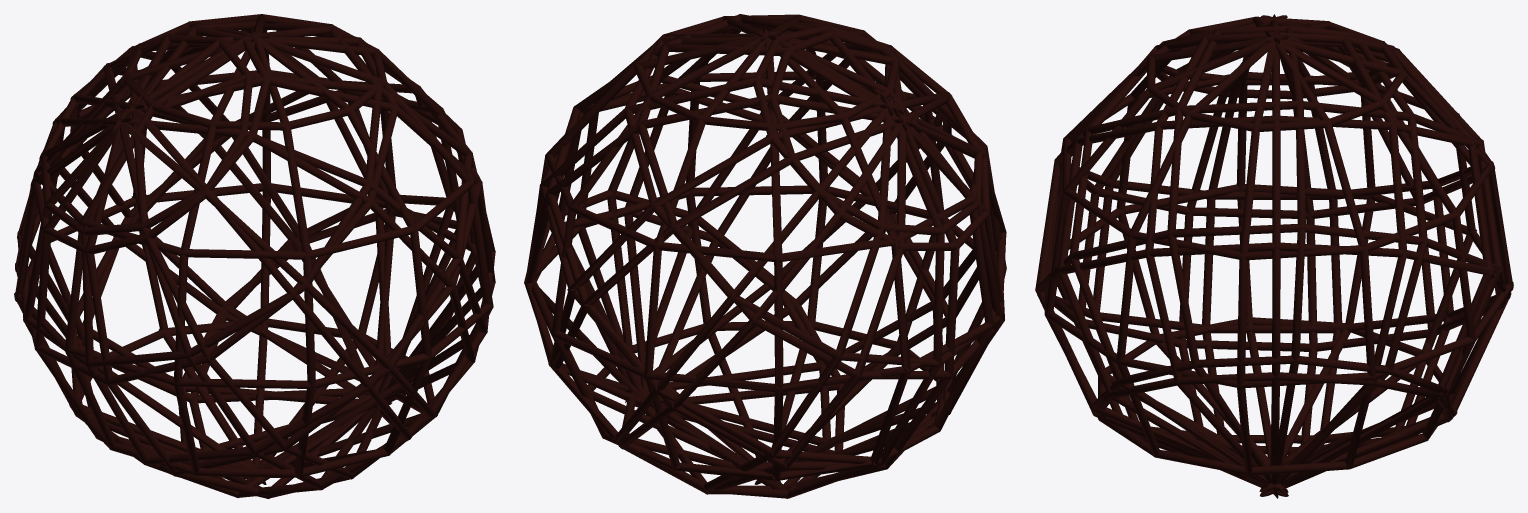
Rendered from Turlająca się zarośla.FBX.
3 views of the same model, side by side, from view 1: azimuth 30°, elevation 25°; view 2: azimuth 150°, elevation 25°; view 3: azimuth 270°, elevation 25° (orthographic).
Visible parts, largest first — view 1: Shape004; view 2: Shape004; view 3: Shape004.
Part boxes in pixels (x1,y1,x2,y2): Shape004: (14,14,495,498); Shape004: (524,14,1006,498); Shape004: (1035,14,1513,498).
Bounding box in the file's own units: 33.86 × 34.66 × 33.95.
